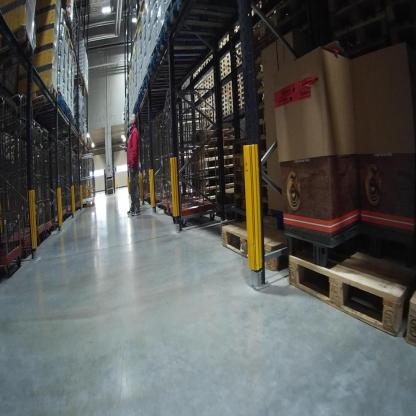pallet: (290, 237, 416, 335), (212, 219, 323, 282), (163, 3, 242, 34), (156, 24, 218, 60), (149, 50, 203, 79), (20, 82, 59, 115), (405, 284, 415, 347), (74, 71, 86, 84), (235, 54, 244, 67), (233, 47, 242, 57), (220, 88, 227, 100), (221, 104, 229, 114), (220, 70, 228, 79), (219, 83, 227, 92), (237, 90, 245, 99), (236, 83, 246, 90), (236, 72, 244, 80), (236, 78, 244, 86), (237, 87, 245, 95), (219, 63, 226, 72), (237, 103, 247, 109), (219, 58, 226, 66), (221, 101, 228, 108), (222, 111, 228, 119), (221, 93, 227, 100), (238, 97, 245, 103)
